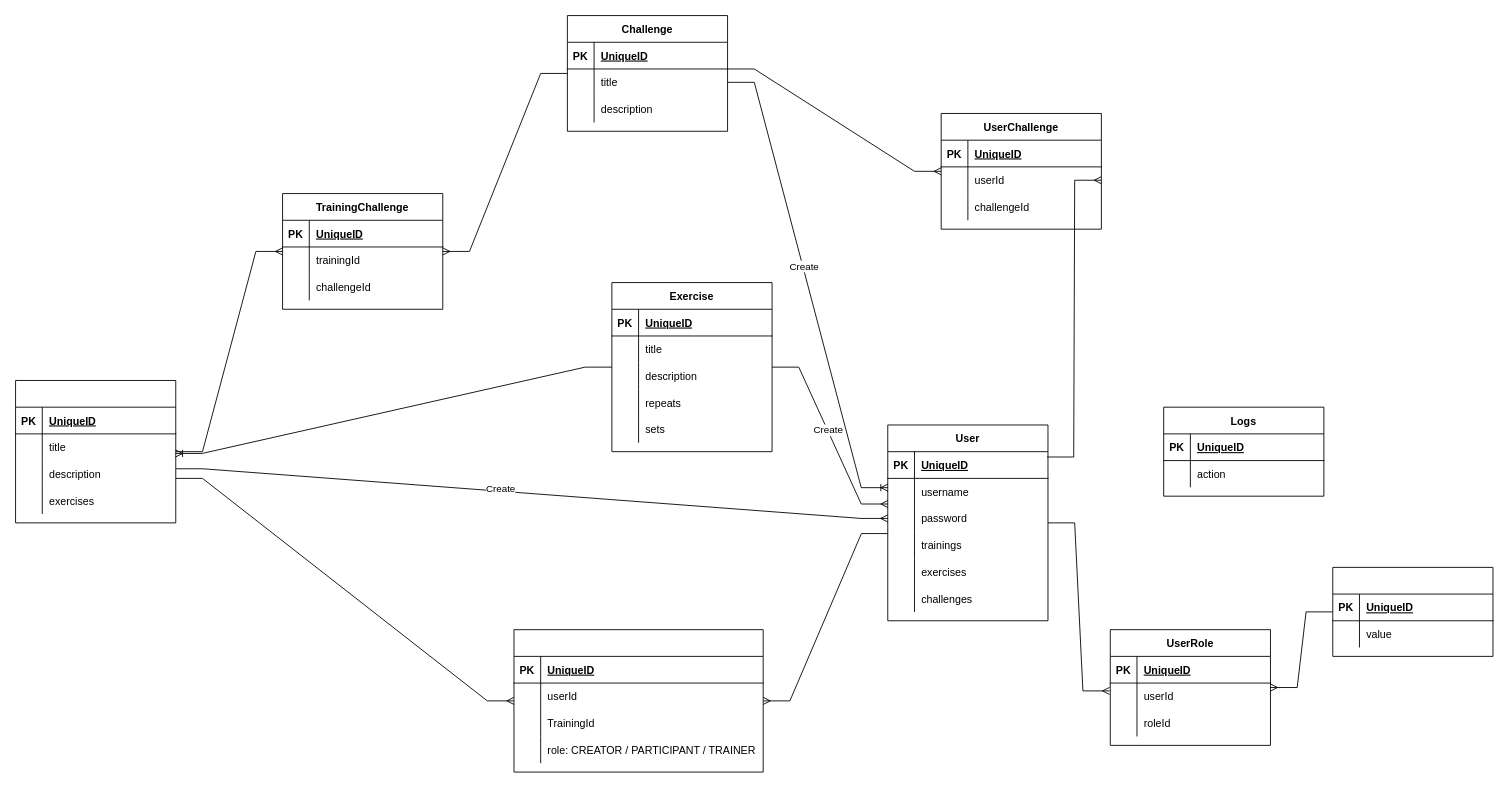
The diagram is 1509 pixels wide and 788 high, and some of its shapes have lost their labels. The box of each missing label's shape, as (x1, y1, x2, y2) in pixels:
Role: (1332, 566, 1493, 656)
Training: (15, 380, 176, 523)
UserTraining: (513, 629, 763, 772)
